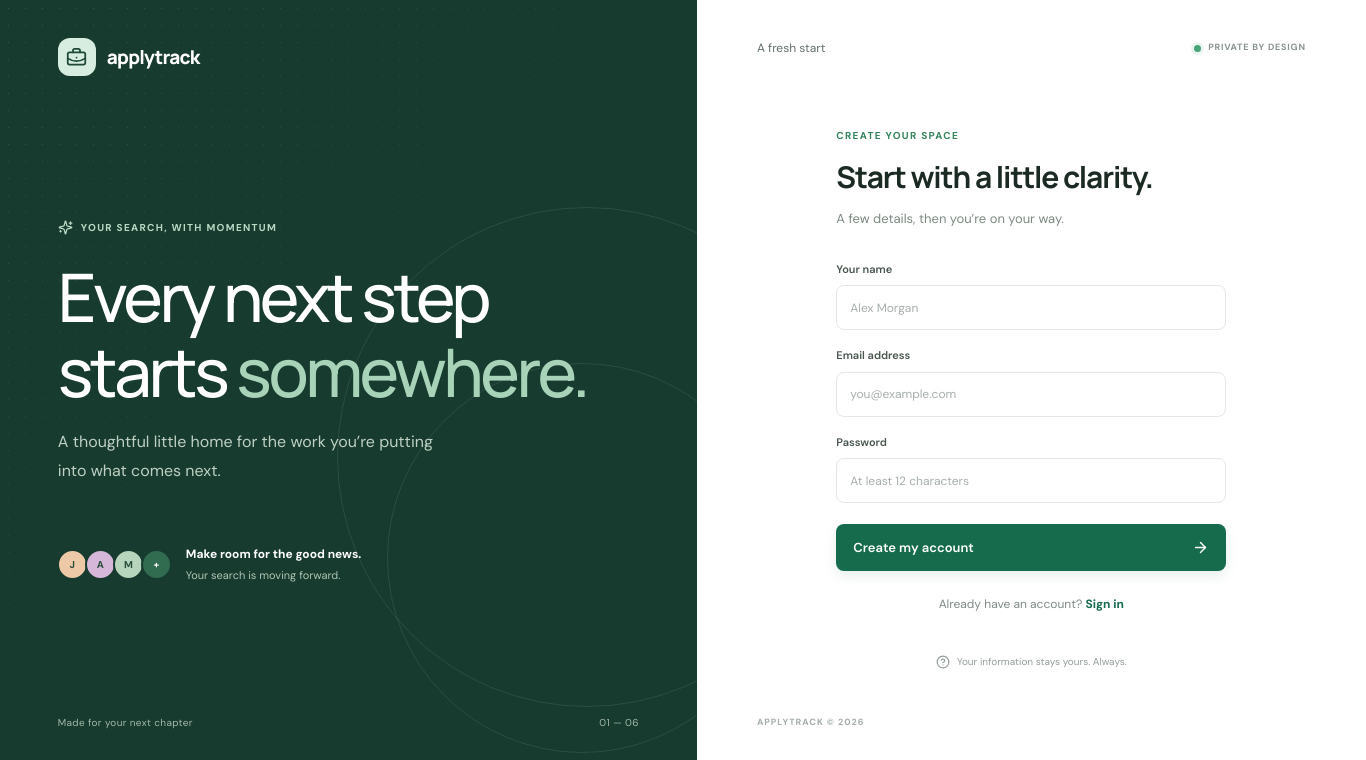
Test: authentication flows › registers an account and starts an authenticated session
This screenshot has width=1366, height=760.
Expected: the heading "Start with a little clarity." is shown, [836, 156, 1153, 197]
Type "Taylor Green" into the field labelled "Your name" at (1031, 308), box [836, 285, 1226, 330]
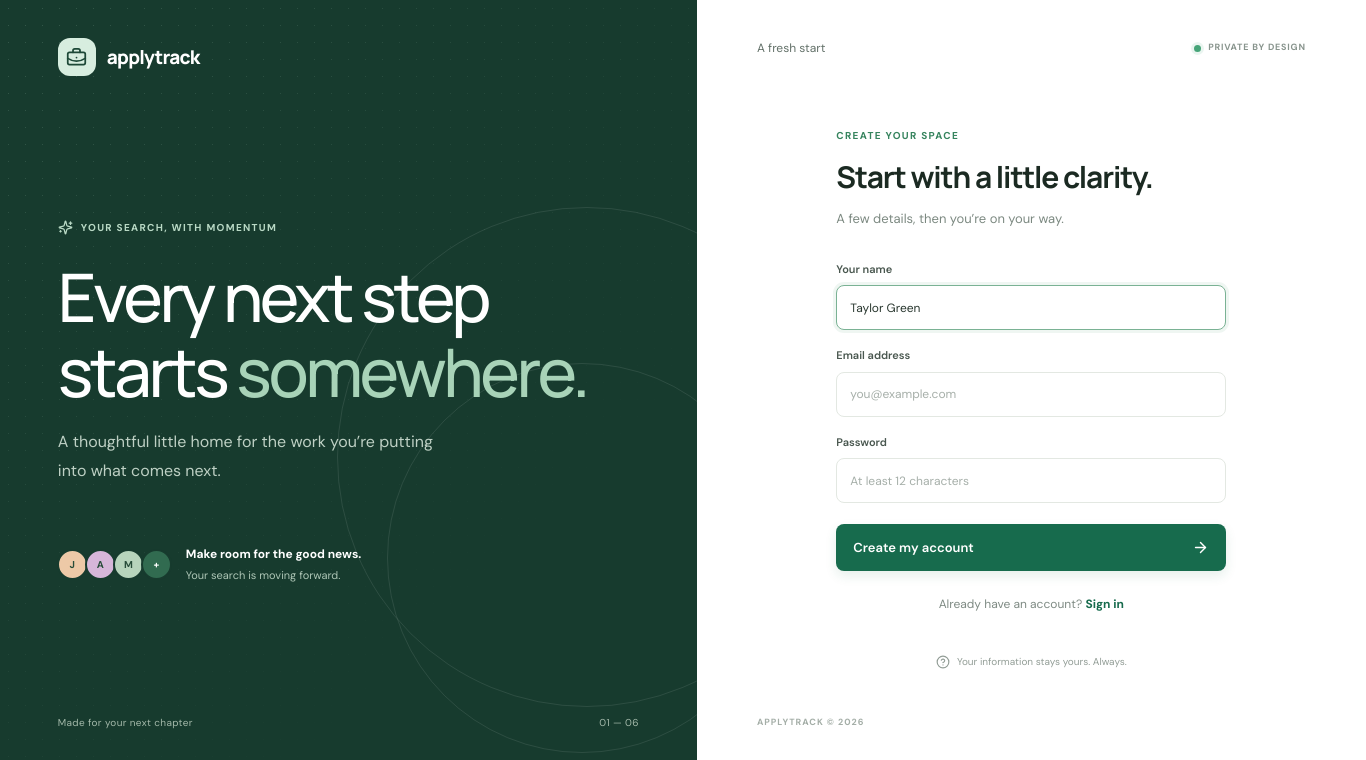
Type "taylor@example.com" into the field labelled "Email address" at (1031, 394), box [836, 372, 1226, 417]
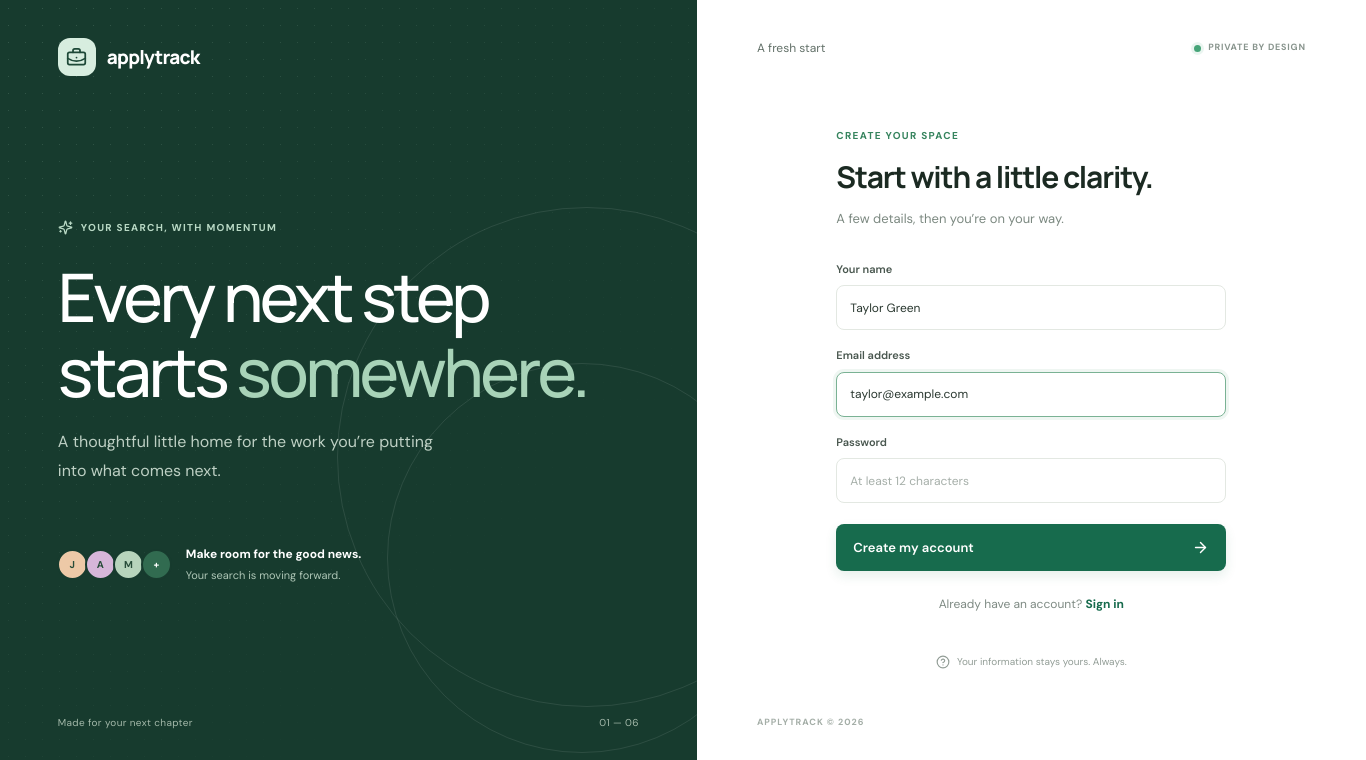
Type "secure-password-123" into the password field labelled "Password" at (1031, 481), box [836, 458, 1226, 503]
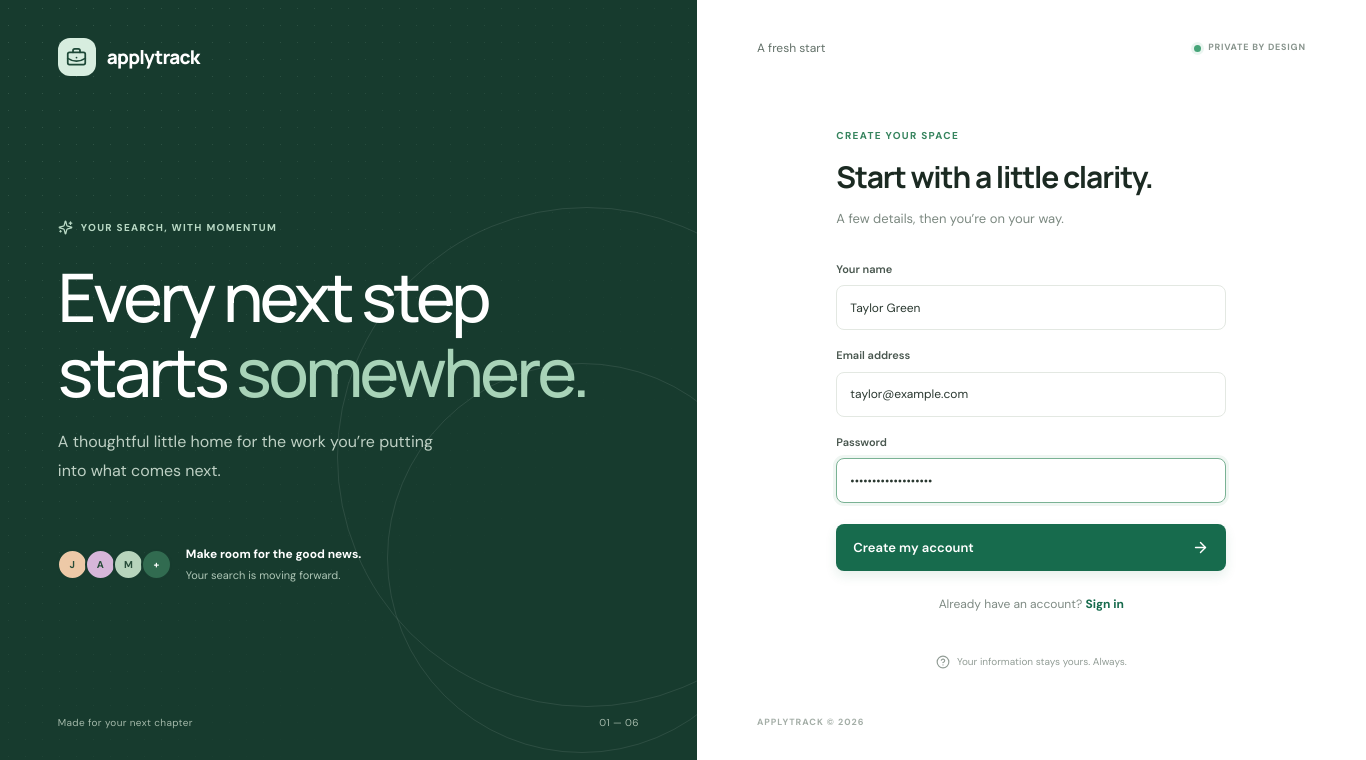
Click the button "Create my account" at (914, 547), box [836, 524, 1226, 571]
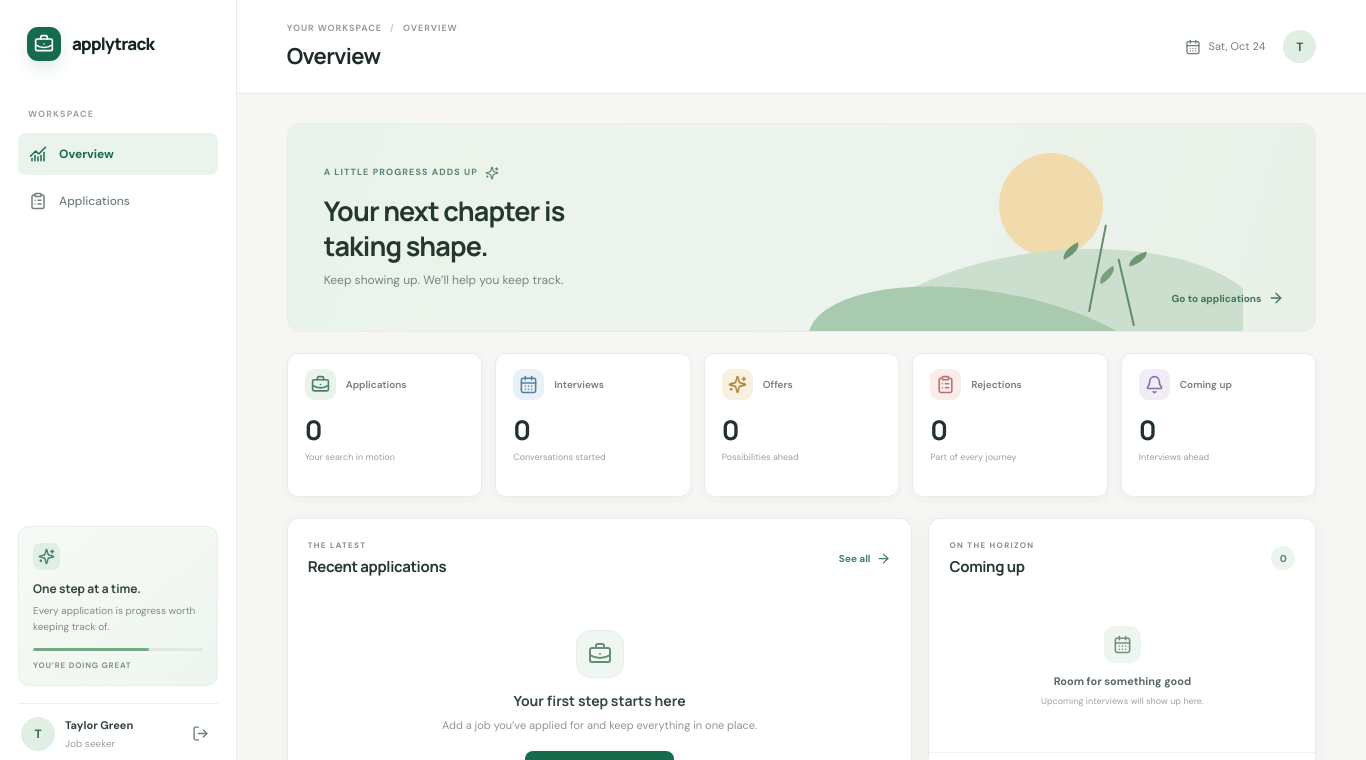
Result: the heading "Your next chapter is taking shape." is shown at [324, 193, 564, 263]
